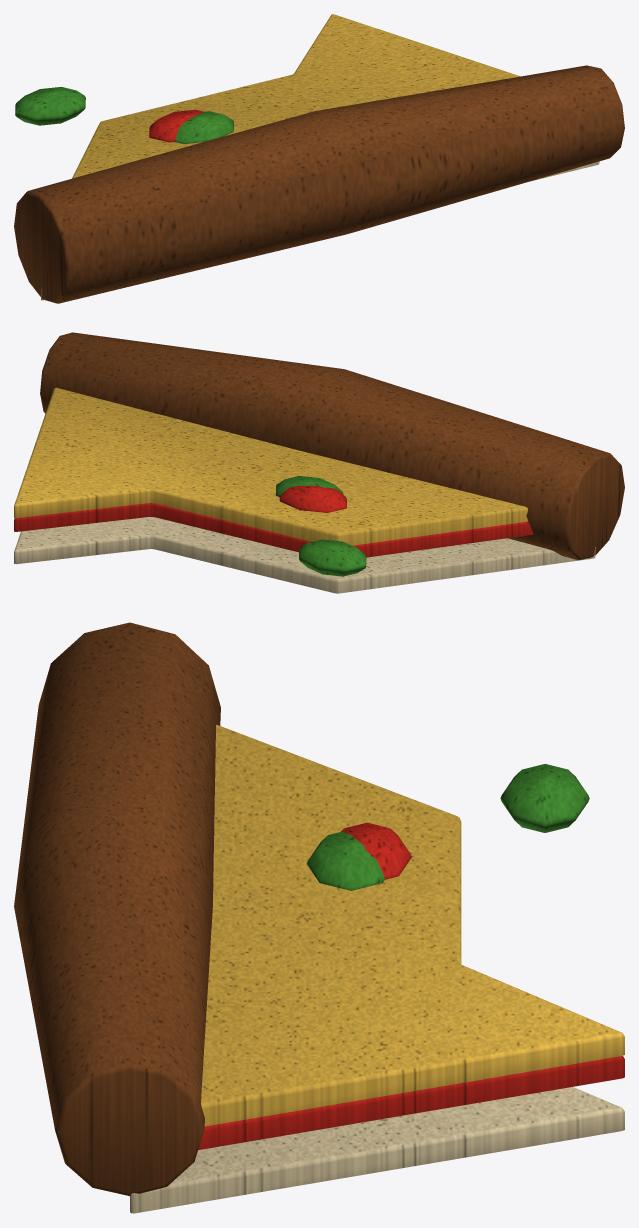
File: food-08-half.glb
3 views of the same model, one above another, from view 1: azimuth 30°, elevation 25°; view 2: azimuth 150°, elevation 25°; view 3: azimuth 270°, elevation 25° (orthographic). The views are drawn at different scales.
Visible parts, largest first — view 1: Food; view 2: Food; view 3: Food.
Boxes of the visible parts, x1,y1,x2,y2 form: Food: [14, 14, 624, 303]; Food: [14, 332, 624, 593]; Food: [14, 622, 624, 1213].
Size of the model in its own units: 0.6142 by 0.125 by 0.3687.
Materials: 1 (1 with a texture image).
